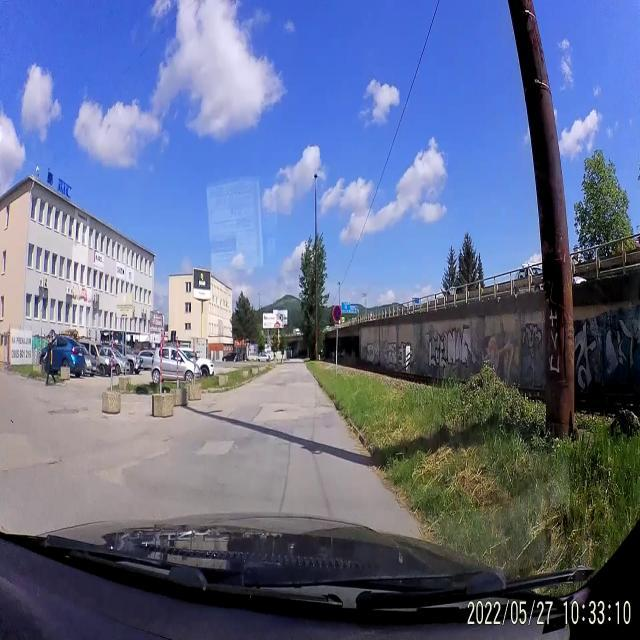Pothole: (46, 406, 80, 416), (43, 455, 65, 468), (272, 406, 286, 414), (83, 405, 89, 411), (102, 414, 108, 420), (85, 416, 90, 420)
